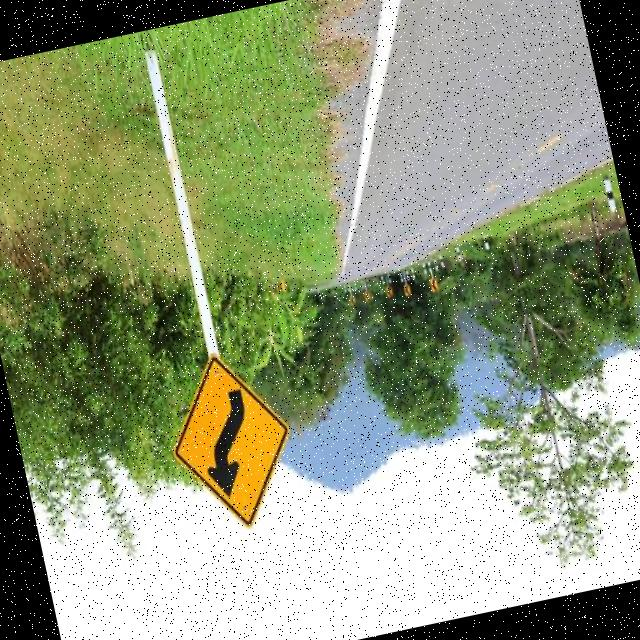left_sharp_curve: (151, 336, 310, 545)
